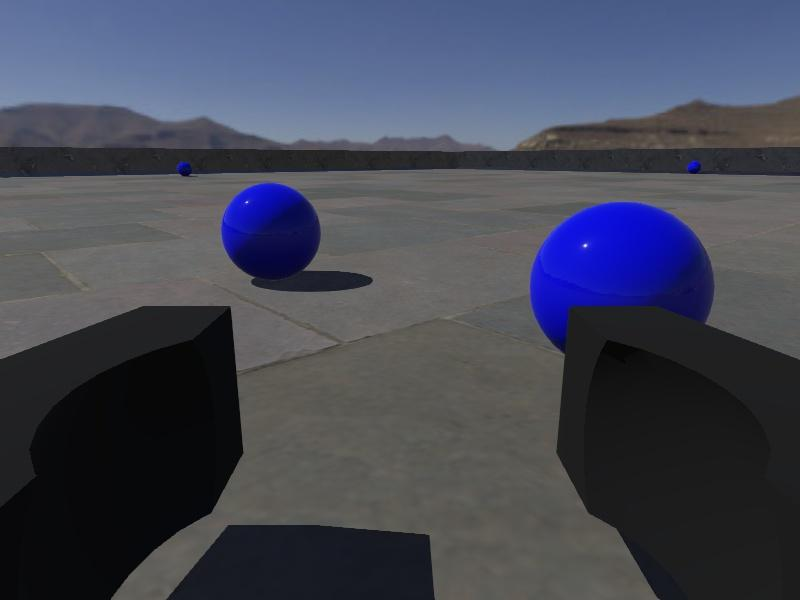blue ball: (220, 182, 321, 280), (177, 160, 193, 178), (687, 159, 701, 173)
